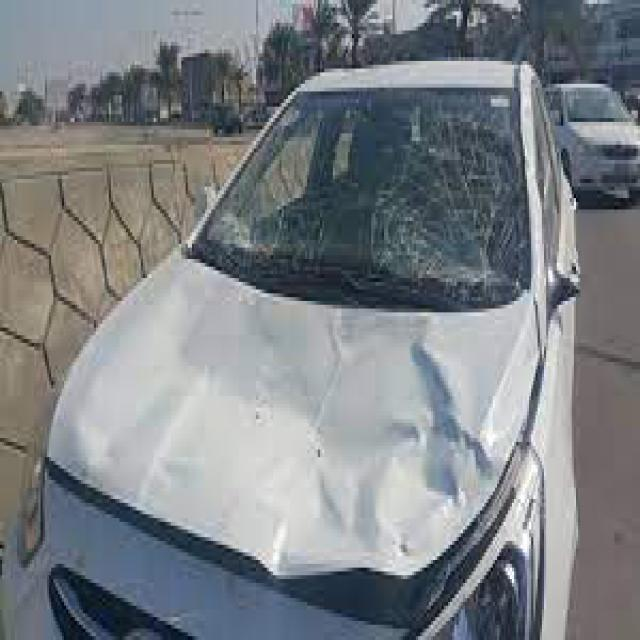Front-Windscreen-Damage: (204, 64, 520, 286)
bonnet-dent: (111, 278, 497, 579)
